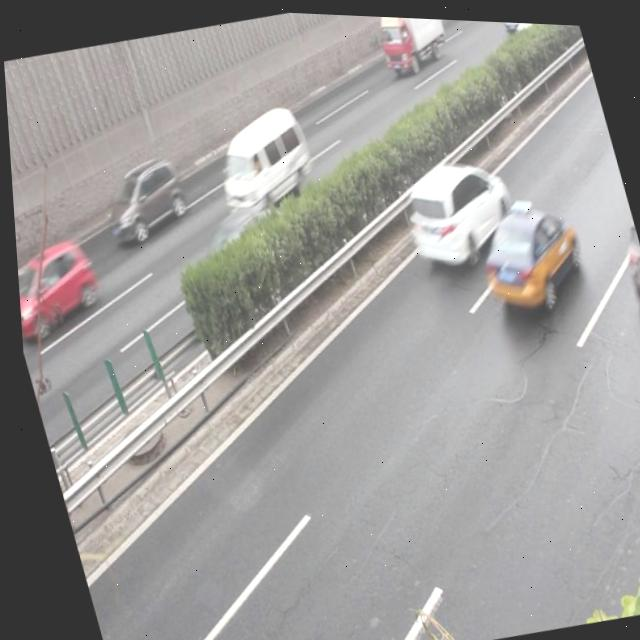bus: (368, 13, 454, 78)
car: (390, 146, 522, 271), (467, 188, 587, 312), (178, 199, 296, 308), (12, 233, 104, 341), (91, 151, 191, 248), (505, 18, 561, 54), (495, 17, 541, 33)
truck: (200, 99, 319, 219)
